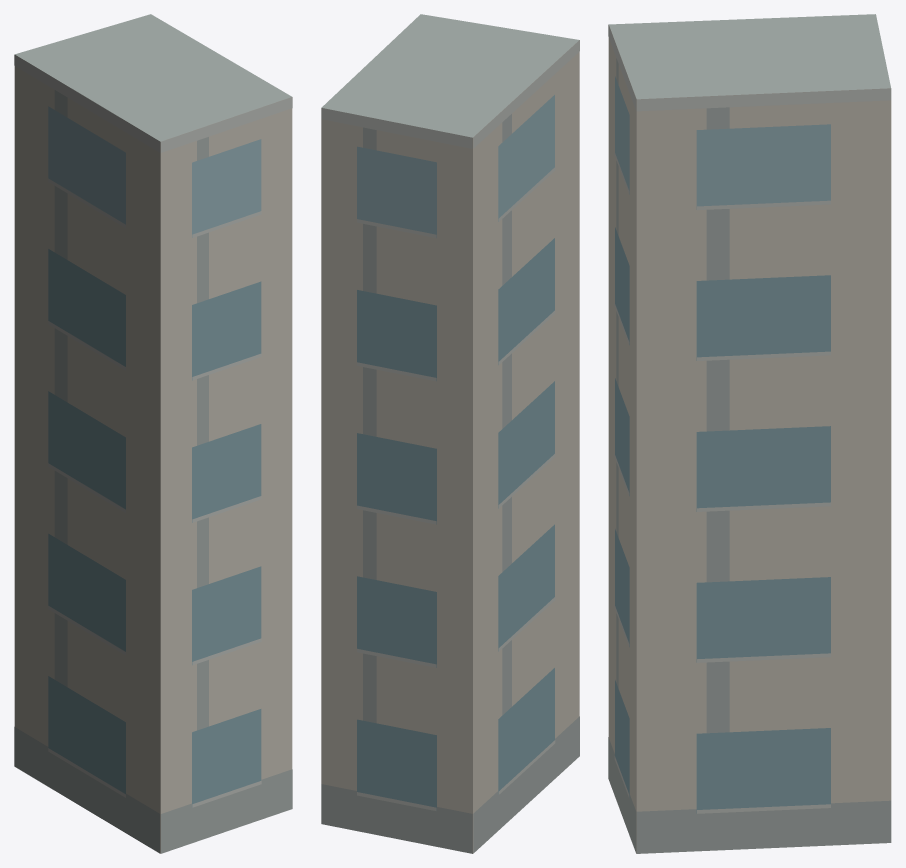
The model's file is survey-upis-32634738.glb.
The picture shows the model from 3 angles, left to right: view 1: azimuth 30°, elevation 25°; view 2: azimuth 150°, elevation 25°; view 3: azimuth 270°, elevation 25°; orthographic projection. The views are drawn at different scales.
Visible parts, largest first — view 1: survey-upis-32634738.tmp; view 2: survey-upis-32634738.tmp; view 3: survey-upis-32634738.tmp.
Boxes of the visible parts, bbox=[...] form: survey-upis-32634738.tmp: bbox=[14, 14, 292, 853]; survey-upis-32634738.tmp: bbox=[321, 14, 579, 853]; survey-upis-32634738.tmp: bbox=[608, 14, 891, 853].
Size of the model in its own units: 3.71 by 15.25 by 5.19.
